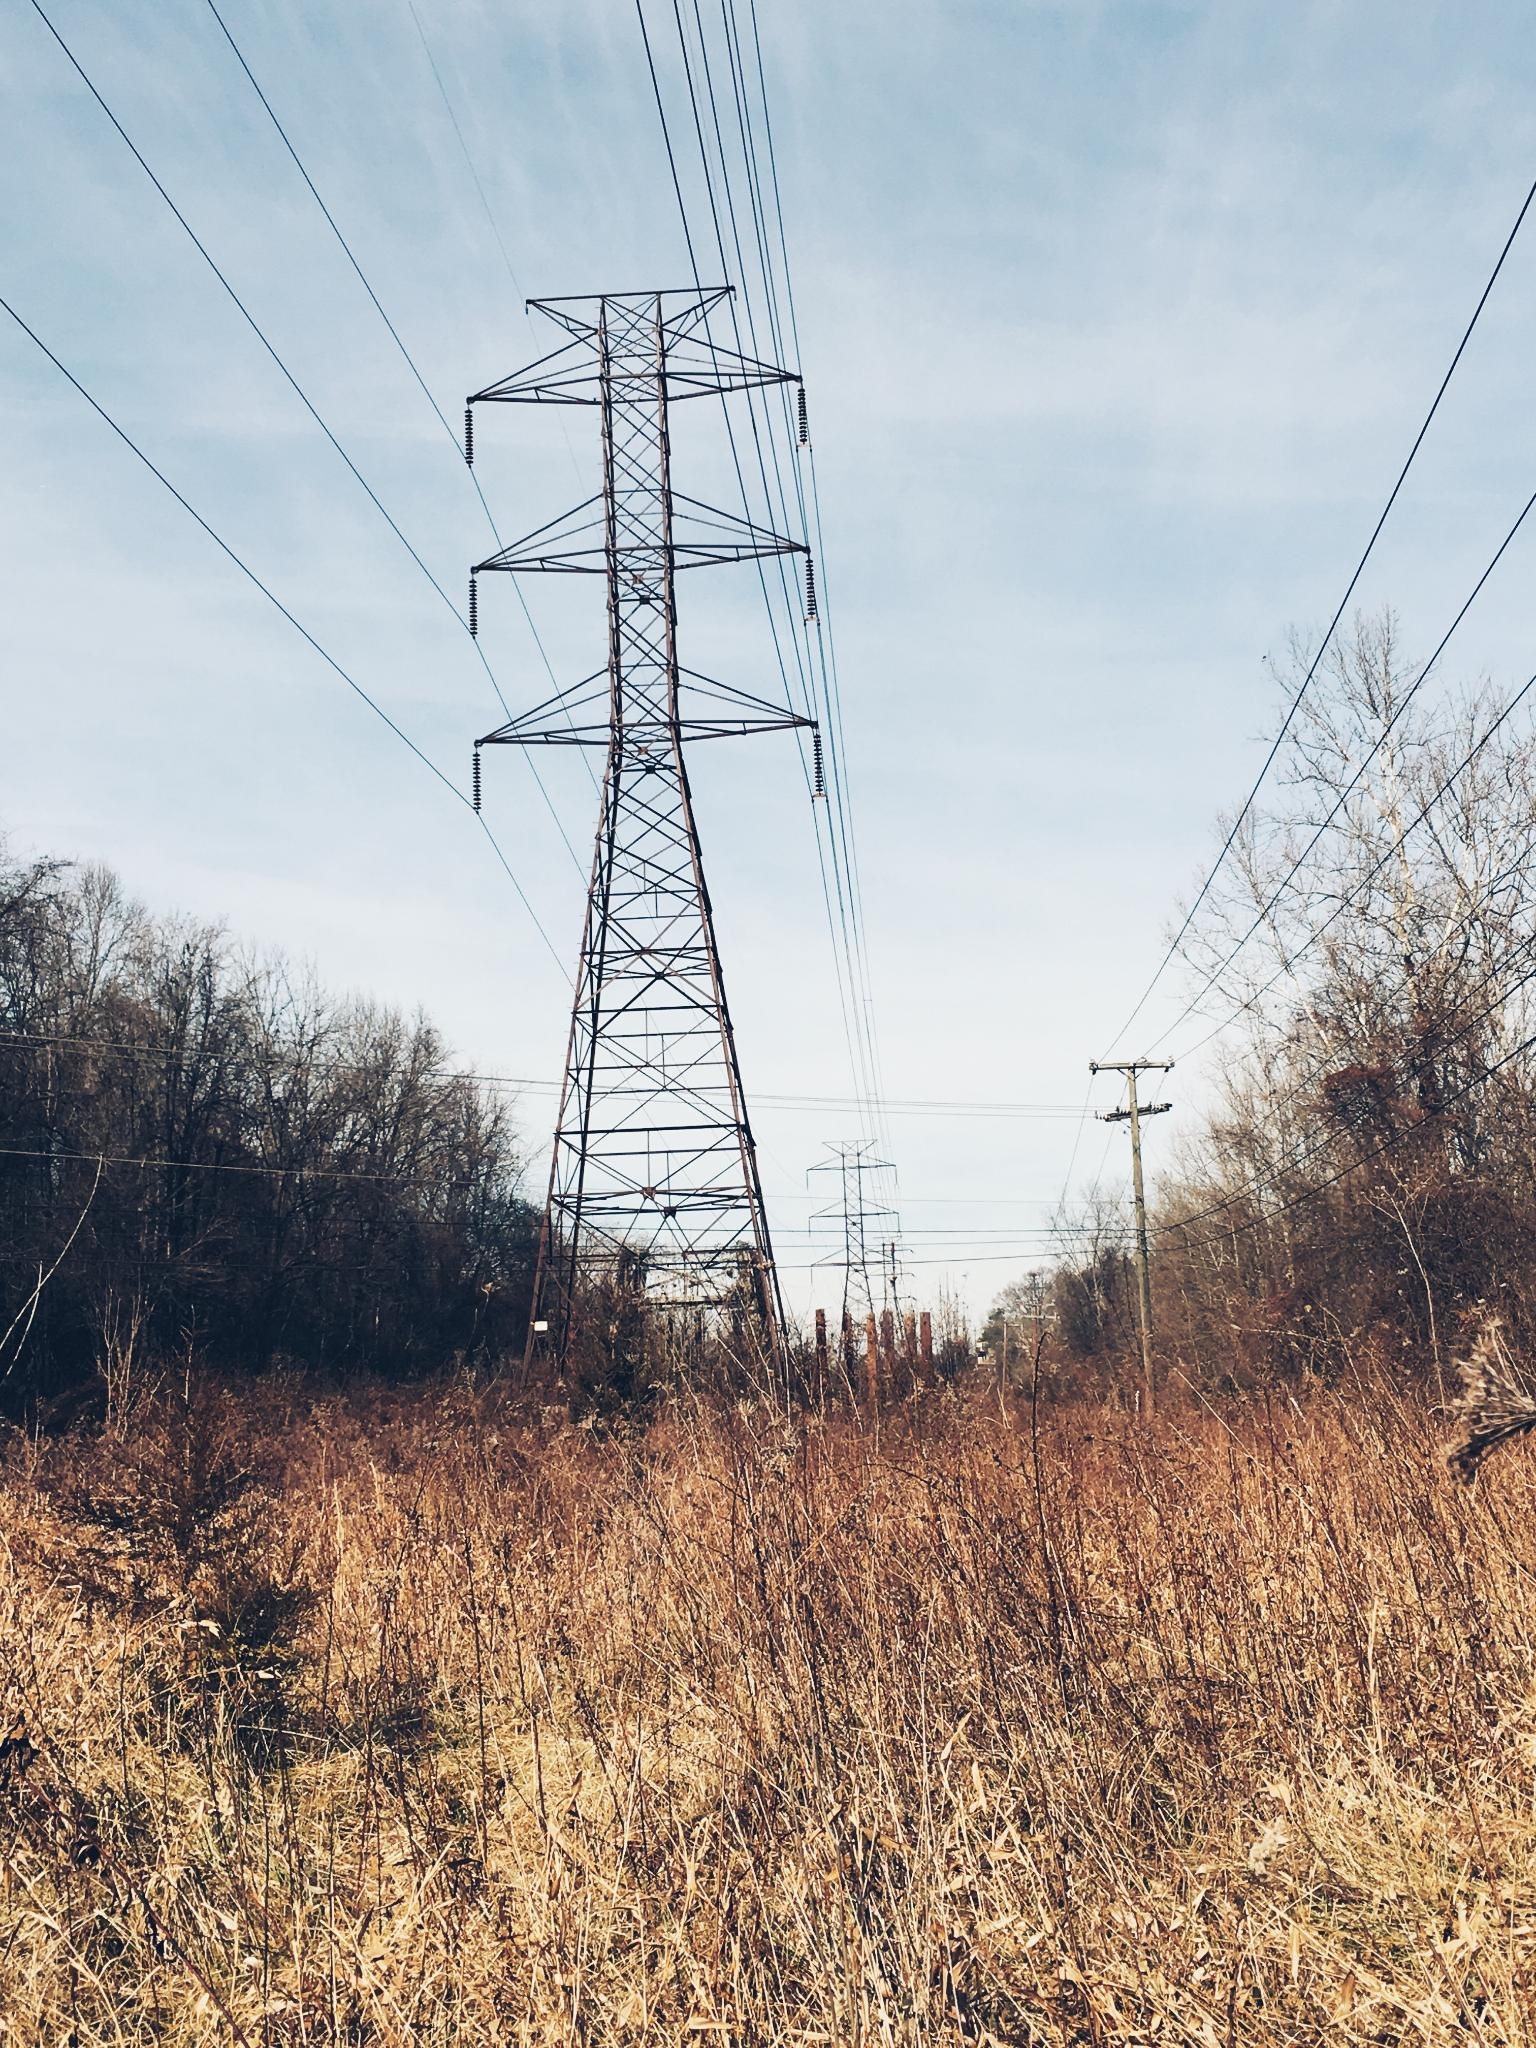cable tower: (437, 208, 881, 1480), (1026, 1000, 1236, 1414), (801, 1135, 907, 1365), (861, 1244, 912, 1345), (1015, 1284, 1059, 1363)
